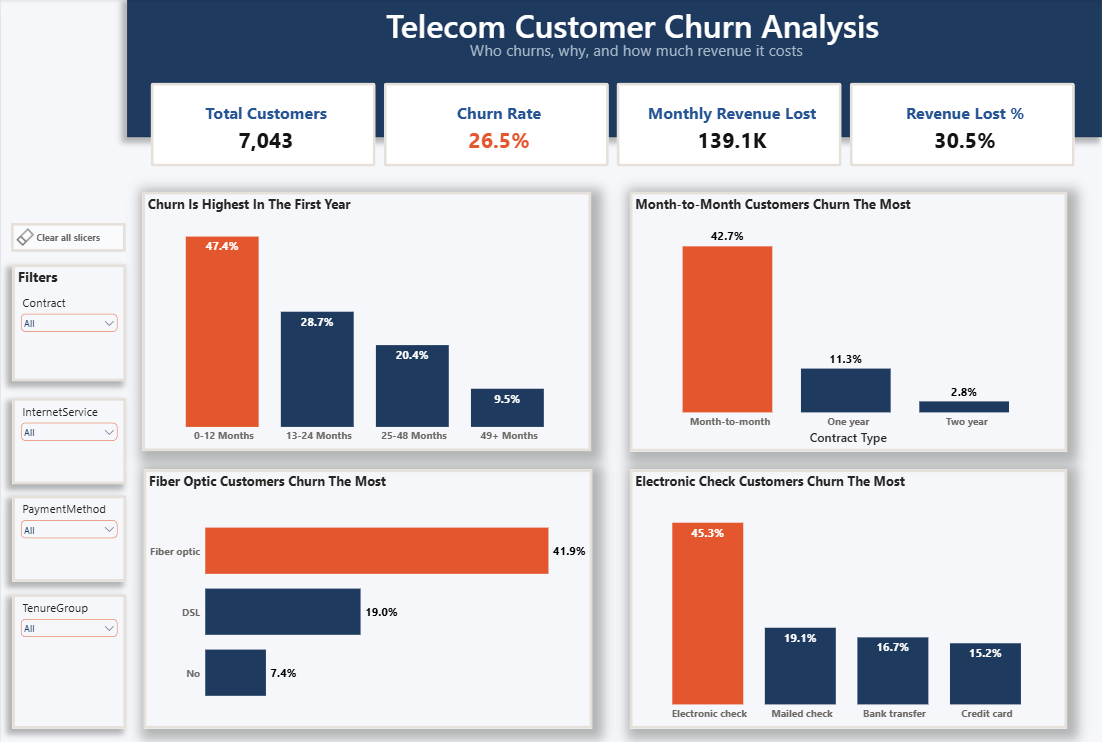

The dashboard page shown, as its layout file describes it:
{"tool":"powerbi","page":{"name":"Overview","canvas":[1920,1300],"ordinal":0},"visuals":[{"type":"shape","box":[220,0,1700,242.5],"z":0},{"type":"cardVisual","fields":{"Data":["Telco_Churn_Dashboard.Total Customers","Telco_Churn_Dashboard.Churn Rate","Telco_Churn_Dashboard.Monthly Revenue Lost","Telco_Churn_Dashboard.Revenue Lost %"]},"box":[245,130,1647.5,180],"z":1000},{"type":"columnChart","title":"Churn Is Highest In The First Year","fields":{"Category":["Telco_Churn_Dashboard.TenureGroup"],"Y":["Telco_Churn_Dashboard.Churn Rate"]},"box":[246,338,782,452],"z":2000},{"type":"columnChart","title":"Month-to-Month Customers Churn The Most","fields":{"Category":["Telco_Churn_Dashboard.Contract"],"Y":["Telco_Churn_Dashboard.Churn Rate"]},"box":[1095,337.5,762.5,452.5],"z":3000},{"type":"clusteredBarChart","title":"Fiber Optic Customers Churn The Most","fields":{"Category":["Telco_Churn_Dashboard.InternetService"],"Y":["Telco_Churn_Dashboard.Churn Rate"]},"box":[248,822,782,452],"z":4000},{"type":"columnChart","title":"Electronic Check Customers Churn The Most","fields":{"Category":["Telco_Churn_Dashboard.PaymentMethod"],"Y":["Telco_Churn_Dashboard.Churn Rate"]},"box":[1096,822,762,452],"z":5000},{"type":"slicer","title":"Filters","fields":{"Values":["Telco_Churn_Dashboard.Contract"]},"box":[20,465,198,204],"z":6000},{"type":"slicer","fields":{"Values":["Telco_Churn_Dashboard.InternetService"]},"box":[20,697.5,198,150],"z":7000},{"type":"slicer","fields":{"Values":["Telco_Churn_Dashboard.PaymentMethod"]},"box":[20,867.5,198,150],"z":8000},{"type":"slicer","fields":{"Values":["Telco_Churn_Dashboard.TenureGroup"]},"box":[20,1040,198,234],"z":9000},{"type":"actionButton","box":[17.5,392.5,200,50],"z":10000},{"type":"textbox","box":[637.5,5,925,125],"z":11000},{"type":"textbox","box":[812.5,67.5,857.5,242.5],"z":12000}]}

Visuals, with their boxes in screenshot pixels (x1, y1, x2, y2), scaled from the page's 1920x1300 canvas onto the 1102x742 screenshot:
shape: bbox=[126, 0, 1101, 138]
cardVisual - Telco_Churn_Dashboard.Total Customers x Telco_Churn_Dashboard.Churn Rate: bbox=[141, 74, 1086, 177]
"Churn Is Highest In The First Year" columnChart: bbox=[141, 193, 590, 451]
"Month-to-Month Customers Churn The Most" columnChart: bbox=[628, 193, 1066, 451]
"Fiber Optic Customers Churn The Most" clusteredBarChart: bbox=[142, 469, 591, 727]
"Electronic Check Customers Churn The Most" columnChart: bbox=[629, 469, 1066, 727]
"Filters" slicer: bbox=[11, 265, 125, 382]
slicer - Telco_Churn_Dashboard.InternetService: bbox=[11, 398, 125, 484]
slicer - Telco_Churn_Dashboard.PaymentMethod: bbox=[11, 495, 125, 581]
slicer - Telco_Churn_Dashboard.TenureGroup: bbox=[11, 594, 125, 727]
actionButton: bbox=[10, 224, 125, 253]
textbox: bbox=[366, 3, 897, 74]
textbox: bbox=[466, 39, 959, 177]
